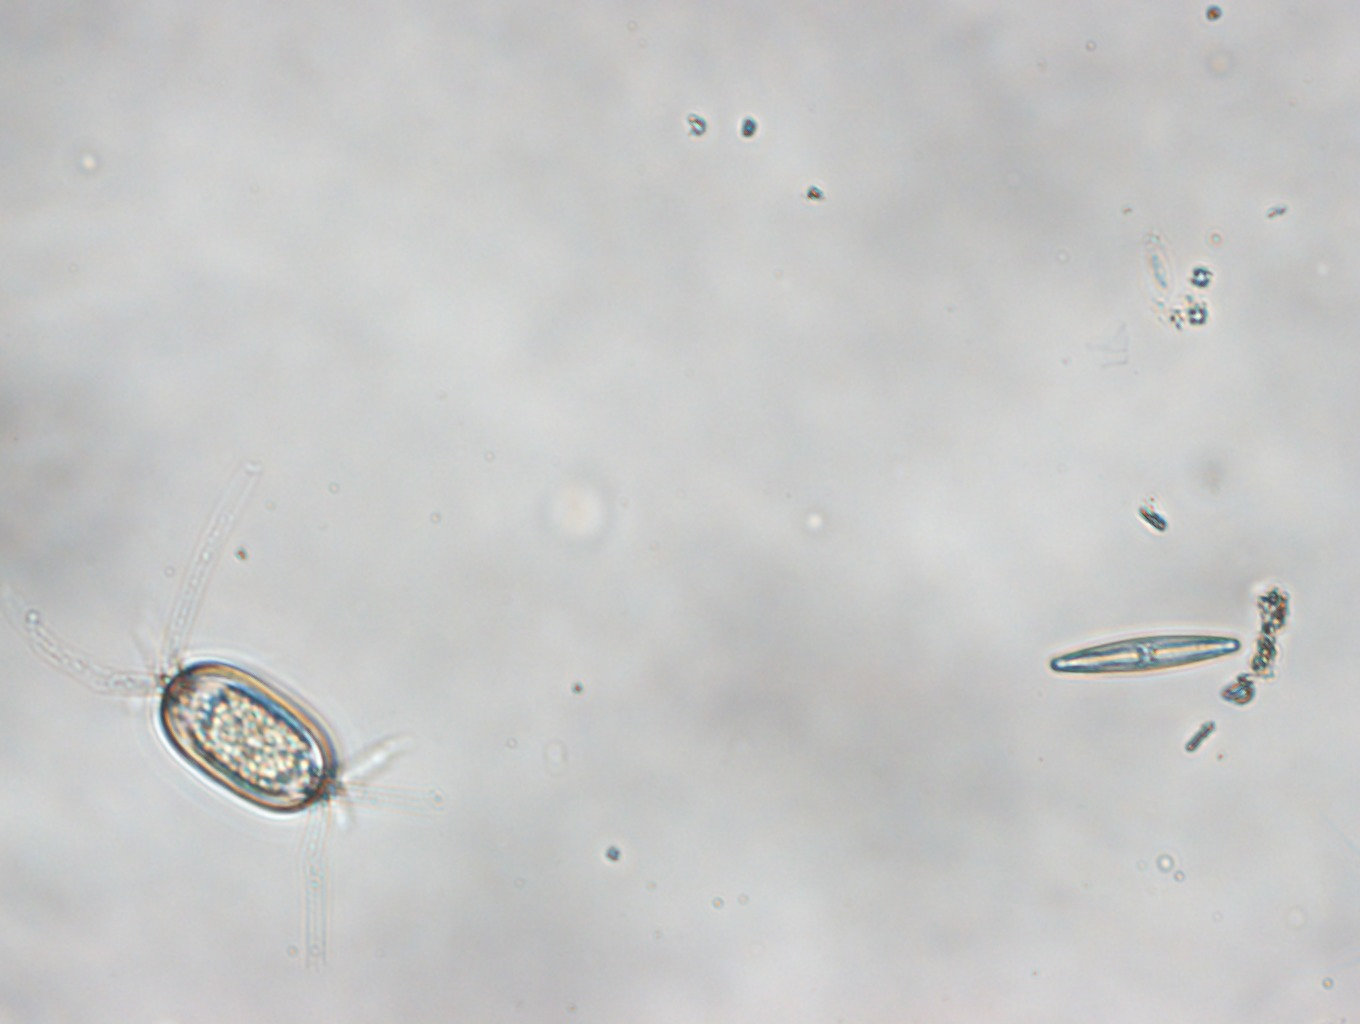navicula: (1039, 618, 1243, 681)
